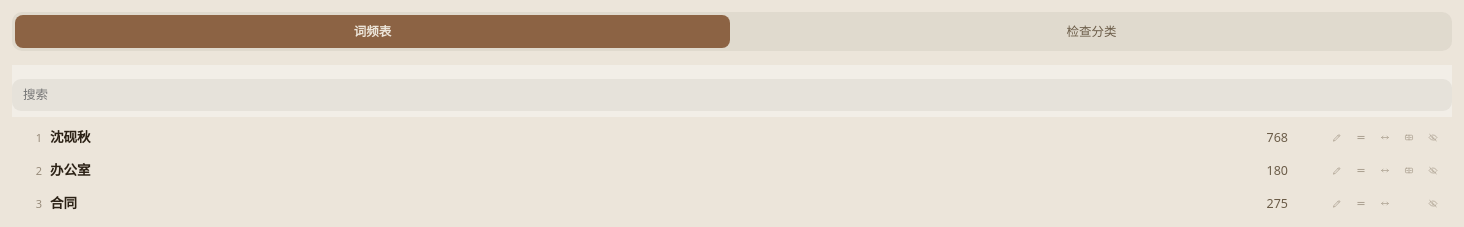
Test case: WordsPanel › the search box filters words
Check: the text "办公室" is shown, box left=50, top=160, right=90, bottom=181
Type "沈" into the field with placeholder "搜索" at (732,95), box left=12, top=79, right=1452, bottom=111
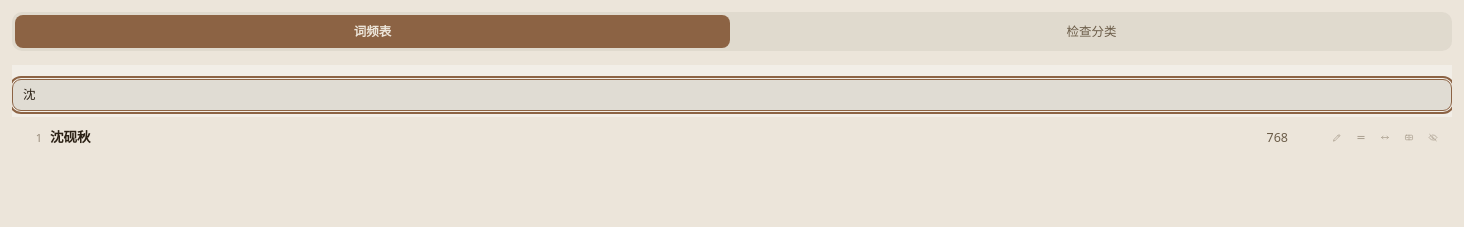
Check: the text "沈砚秋" is shown, box left=50, top=127, right=90, bottom=148
Check: the text "办公室" is gone
